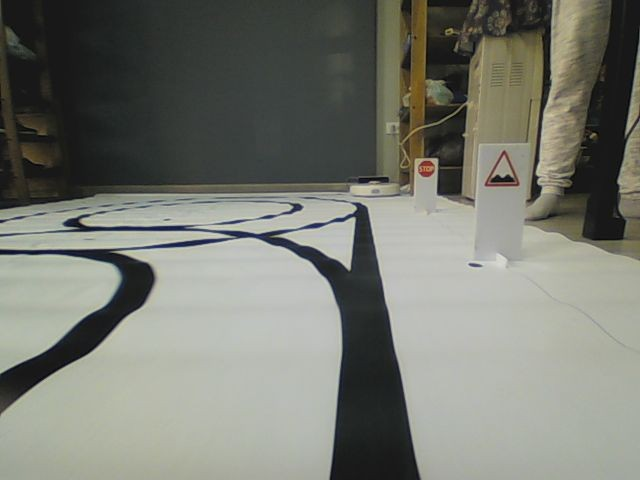Stop: (417, 159, 436, 178)
